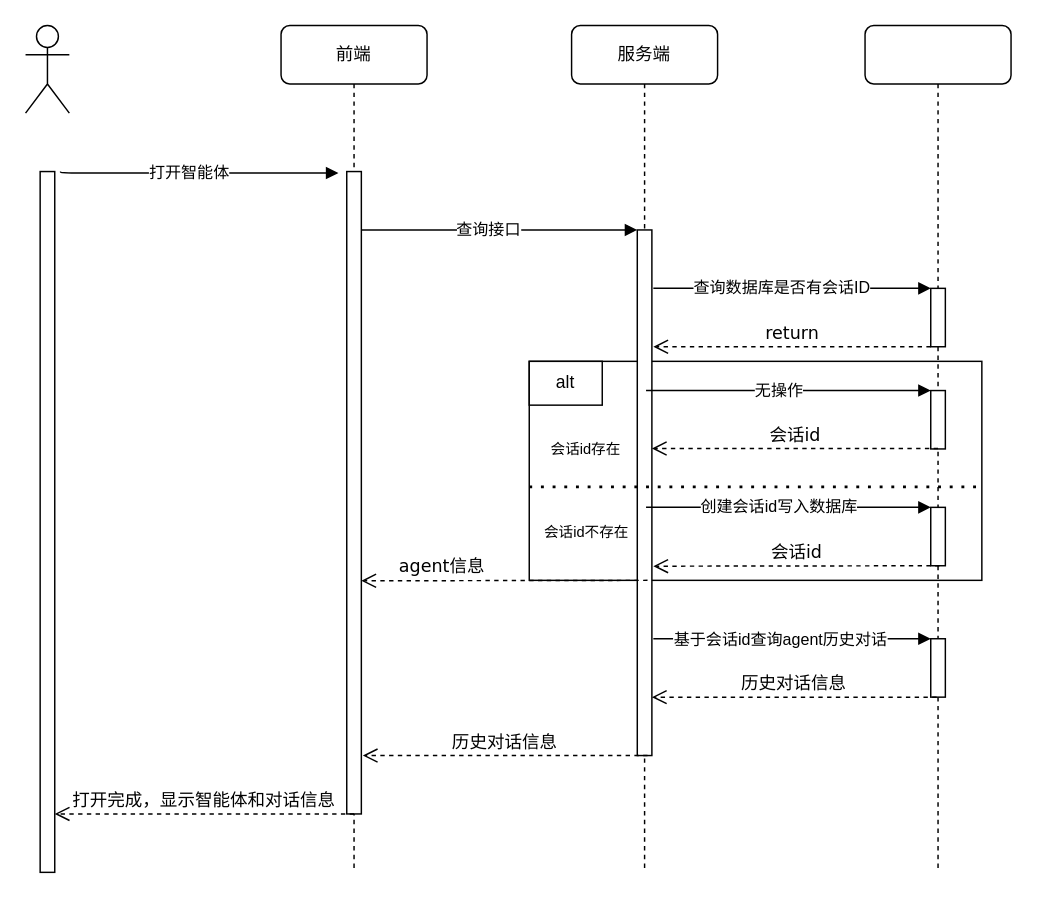
Some shapes in this 1037 by 898 pixel diagram are drawn without their labels. The centre of each missing label's shape, as x and y in pixels:
"Actor" belongs at point (46, 68).
"数据库" belongs at point (937, 448).
